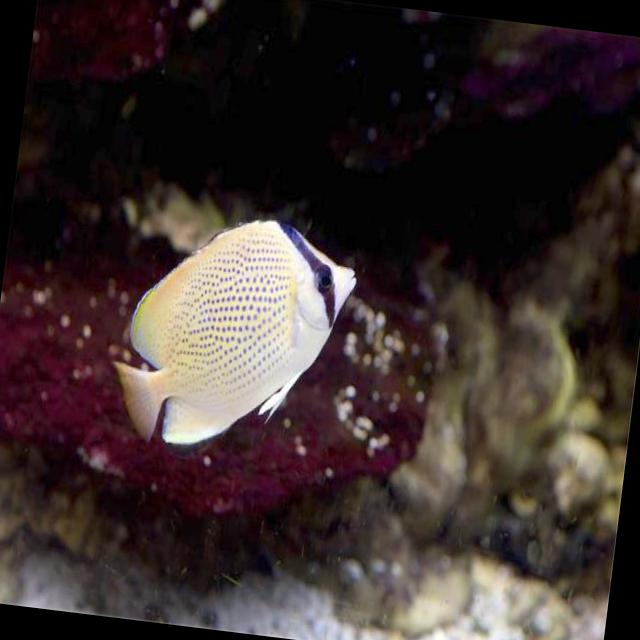ButterflyFish: (107, 204, 362, 464)
